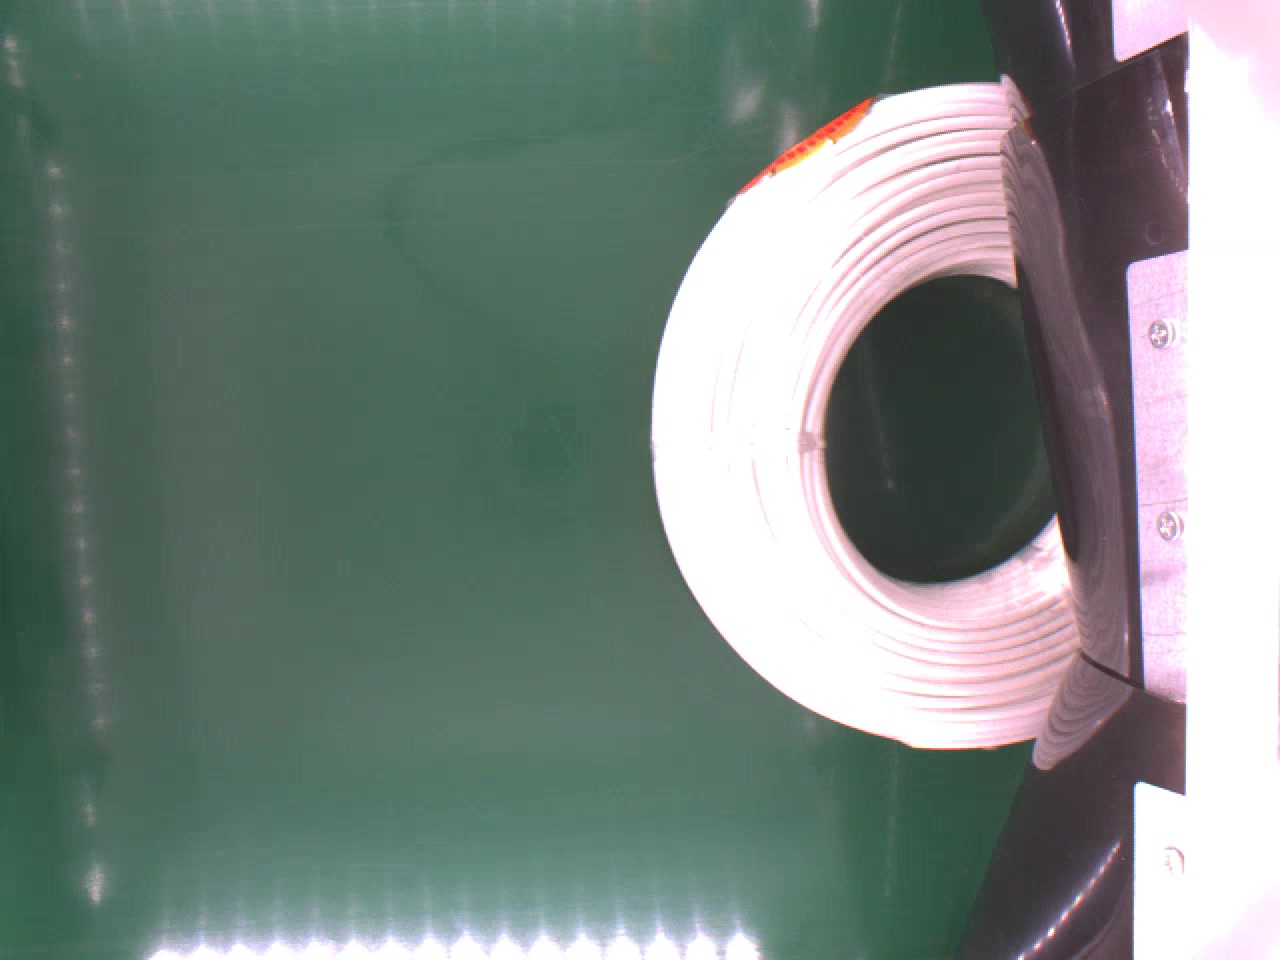white: (645, 75, 1079, 765)
